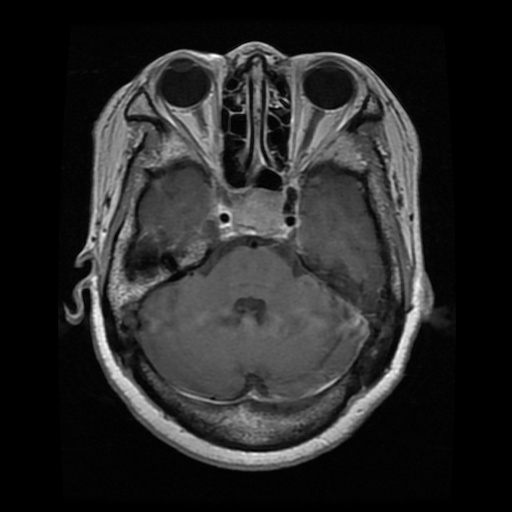pituitary: (232, 186, 285, 237)
